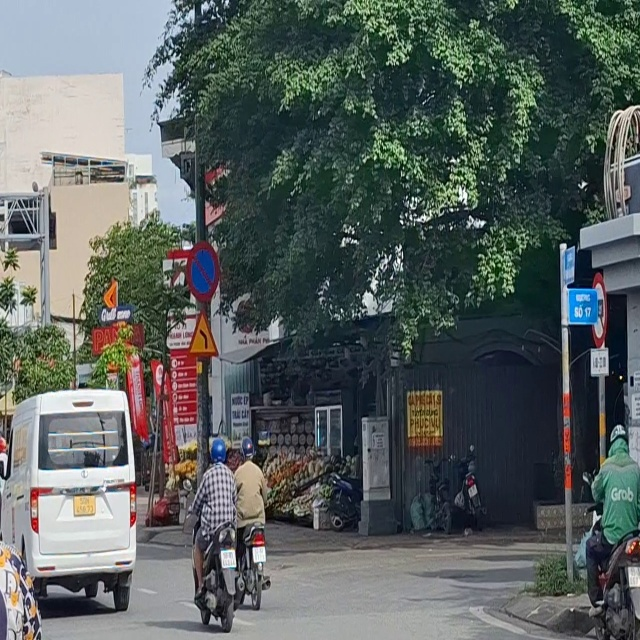cam do xe: (174, 234, 232, 305)
